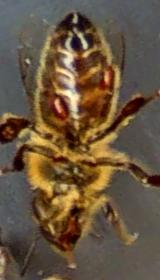varroa_mite: (43, 89, 74, 120), (92, 60, 123, 90)
